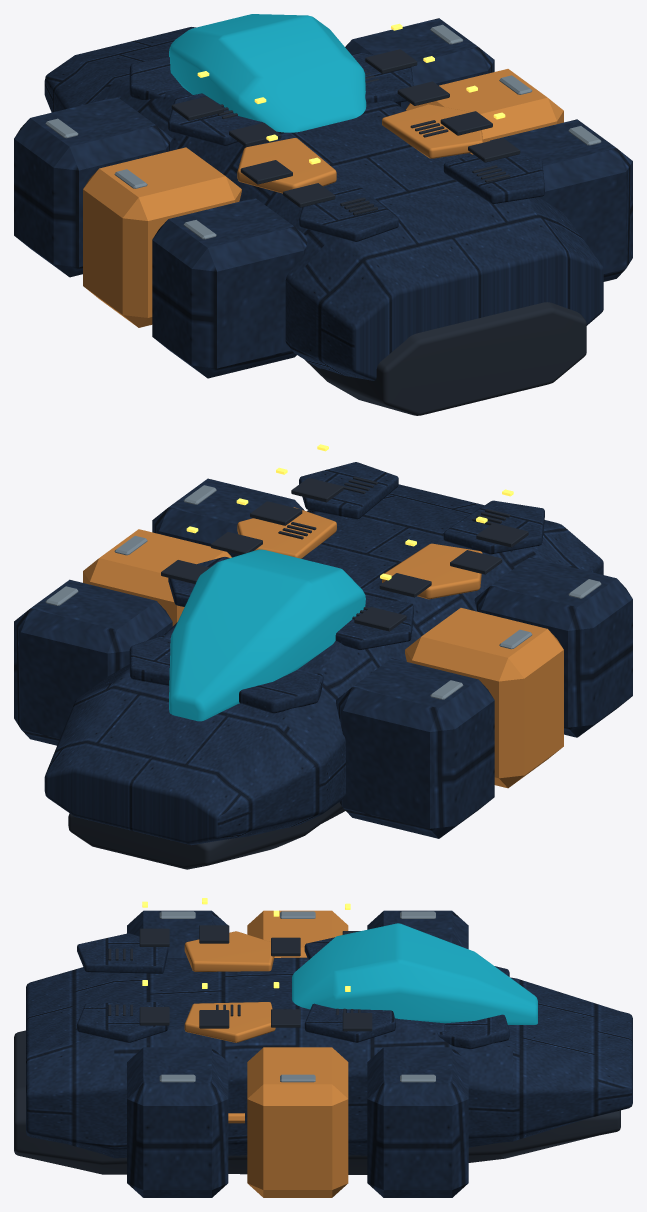
Rendered from atlas.glb.
The picture shows the model from 3 angles, top to bottom: view 1: azimuth 30°, elevation 25°; view 2: azimuth 150°, elevation 25°; view 3: azimuth 270°, elevation 25°; orthographic projection. The views are drawn at different scales.
Parts seen in each view (by area): view 1: Gôndola do motor.003 · exportação, Colar da turbina.010 · exportação, Bocal do motor.003 · exportação, Cabine panorâmica.001 · exportação, Aleta do bocal.031 · exportação; view 2: Gôndola do motor.003 · exportação, Colar da turbina.010 · exportação, Cabine panorâmica.001 · exportação, Bocal do motor.003 · exportação, Aleta do bocal.031 · exportação; view 3: Gôndola do motor.003 · exportação, Colar da turbina.010 · exportação, Cabine panorâmica.001 · exportação, Bocal do motor.003 · exportação, Aleta do bocal.031 · exportação.
Boxes of the visible parts, bbox=[...] form: Gôndola do motor.003 · exportação: bbox=[14, 18, 632, 380]; Colar da turbina.010 · exportação: bbox=[83, 69, 563, 327]; Bocal do motor.003 · exportação: bbox=[171, 49, 586, 415]; Cabine panorâmica.001 · exportação: bbox=[169, 14, 366, 132]; Aleta do bocal.031 · exportação: bbox=[45, 24, 601, 239]; Gôndola do motor.003 · exportação: bbox=[14, 462, 632, 845]; Colar da turbina.010 · exportação: bbox=[83, 507, 563, 788]; Cabine panorâmica.001 · exportação: bbox=[169, 549, 365, 721]; Bocal do motor.003 · exportação: bbox=[68, 476, 528, 869]; Aleta do bocal.031 · exportação: bbox=[45, 485, 601, 699]; Gôndola do motor.003 · exportação: bbox=[26, 910, 632, 1197]; Colar da turbina.010 · exportação: bbox=[184, 910, 348, 1197]; Cabine panorâmica.001 · exportação: bbox=[292, 923, 537, 1024]; Bocal do motor.003 · exportação: bbox=[14, 925, 620, 1174]; Aleta do bocal.031 · exportação: bbox=[159, 911, 435, 1082].
Size of the model in its own units: 37.14 by 19.37 by 51.88.
7 materials, 1 textured.
